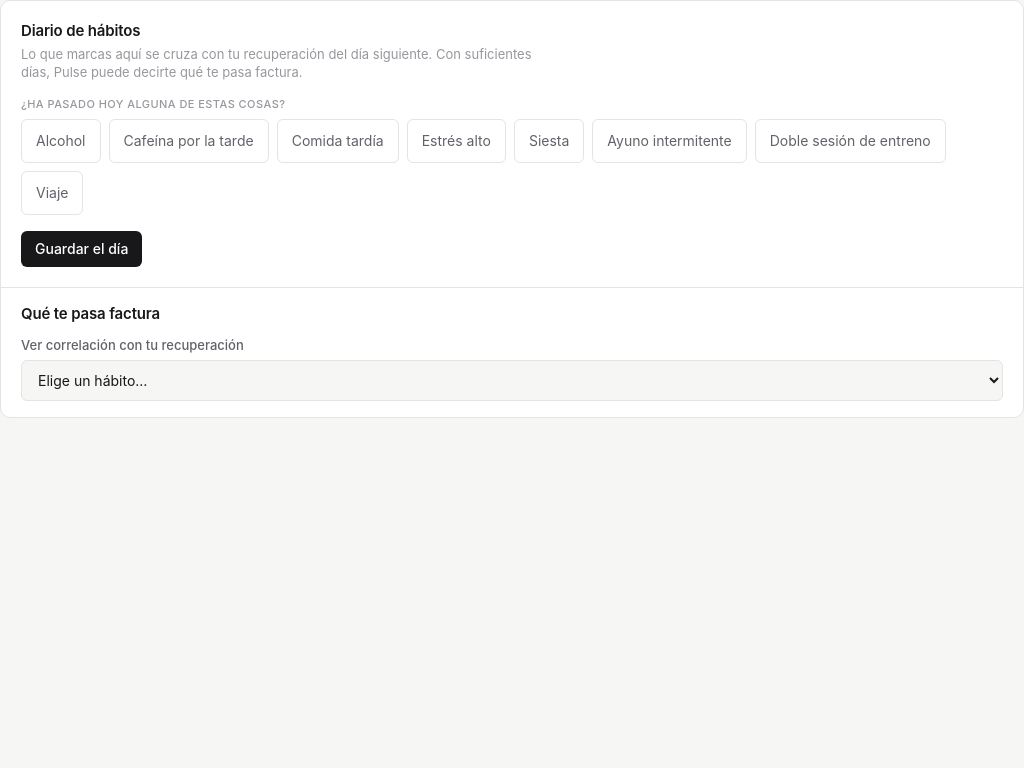
Test: HabitJournalCard › muestra los porcentajes cuando datos_suficientes es true
Select "Alcohol" in the dropdown labelled "Ver correlación con tu recuperación" at {"x": 512, "y": 380}, box [21,360,1003,401]
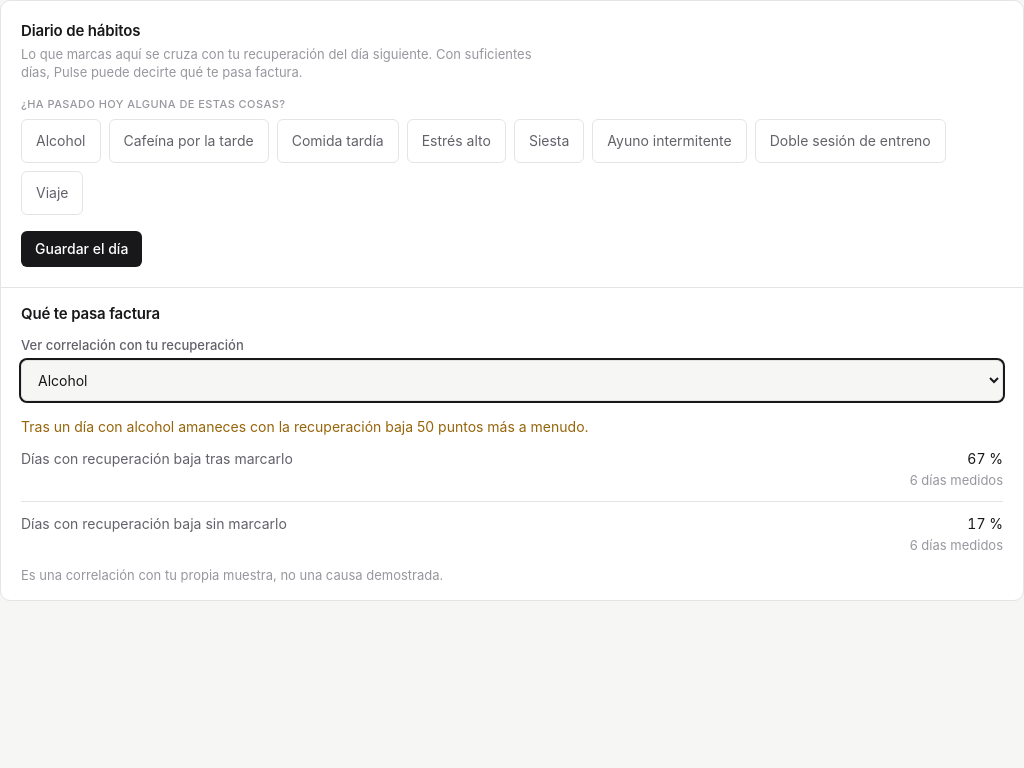
Now the text "67 %" is shown, box [967,450,1003,467]
Now the text "17 %" is shown, box [967,515,1003,532]
Now the text "amaneces con la recuperación baja 50 puntos más a menudo" is shown, box [21,418,589,435]
